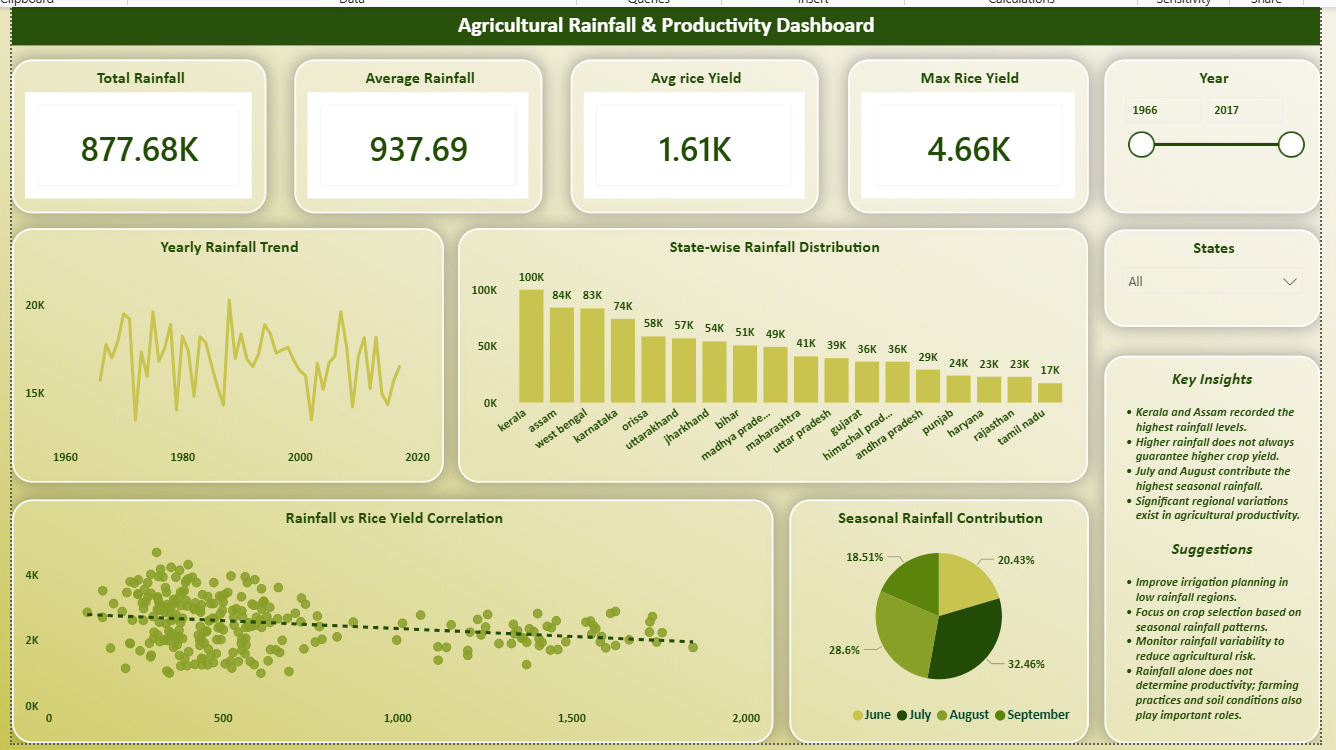

The page's visual inventory and layout, read from the dashboard file:
{"tool":"powerbi","page":{"name":"Overview Dashboard","canvas":[1280,720],"ordinal":0},"visuals":[{"type":"textbox","box":[0,0,1280,37.5],"z":0},{"type":"cardVisual","title":"Total Rainfall","fields":{"Data":["All_Measure.Total_Rainfall_Meaasure"]},"box":[0,51.2,248.8,150],"z":1000},{"type":"cardVisual","title":"Average Rainfall","fields":{"Data":["All_Measure.Average_Rainfall"]},"box":[276.7,51.2,242.5,150],"z":2000},{"type":"cardVisual","title":"Avg rice Yield","fields":{"Data":["All_Measure.Avg Rice Yield"]},"box":[547.1,51.2,242.5,150],"z":3000},{"type":"cardVisual","title":"Max Rice Yield","fields":{"Data":["All_Measure.Max Rice Yield"]},"box":[817.5,51.2,235,150],"z":4000},{"type":"lineChart","title":"Yearly Rainfall Trend","fields":{"Category":["rain-agriculture.Year"],"Y":["All_Measure.Total_Rainfall_Meaasure"]},"box":[0,216.9,422.5,248.8],"z":5000},{"type":"clusteredColumnChart","title":"State-wise Rainfall Distribution","fields":{"Category":["rain-agriculture.State Name"],"Y":["All_Measure.Total_Rainfall_Meaasure"]},"box":[436.2,216.9,616.2,248.8],"z":6000},{"type":"textbox","box":[1068.8,341.2,211.6,379.1],"z":7000},{"type":"scatterChart","title":"Rainfall vs Rice Yield Correlation","fields":{"X":["rain-agriculture.Total_Rainfall"],"Y":["rain-agriculture.RICE YIELD (Kg per ha)"]},"box":[0,481.2,745,238.8],"z":8000},{"type":"slicer","title":"Year","fields":{"Values":["rain-agriculture.Year"]},"box":[1068.8,51.2,211.2,150],"z":9000},{"type":"pieChart","title":"Seasonal Rainfall Contribution","fields":{"Y":["Sum(rain-agriculture.JUN)","Sum(rain-agriculture.JUL)","Sum(rain-agriculture.AUG)","Sum(rain-agriculture.SEP)"]},"box":[760,481.2,292.5,238.8],"z":10000},{"type":"slicer","title":"States","fields":{"Values":["rain-agriculture.State Name"]},"box":[1068.8,217.5,211.2,95],"z":11000}]}

Visuals, with their boxes in screenshot pixels (x1, y1, x2, y2):
textbox: locate(3, 3, 1321, 42)
"Total Rainfall" cardVisual: locate(3, 56, 260, 211)
"Average Rainfall" cardVisual: locate(288, 56, 538, 211)
"Avg rice Yield" cardVisual: locate(567, 56, 816, 211)
"Max Rice Yield" cardVisual: locate(845, 56, 1087, 211)
"Yearly Rainfall Trend" lineChart: locate(3, 227, 438, 483)
"State-wise Rainfall Distribution" clusteredColumnChart: locate(452, 227, 1087, 483)
textbox: locate(1104, 355, 1321, 745)
"Rainfall vs Rice Yield Correlation" scatterChart: locate(3, 499, 770, 745)
"Year" slicer: locate(1104, 56, 1321, 211)
"Seasonal Rainfall Contribution" pieChart: locate(786, 499, 1087, 745)
"States" slicer: locate(1104, 227, 1321, 325)
